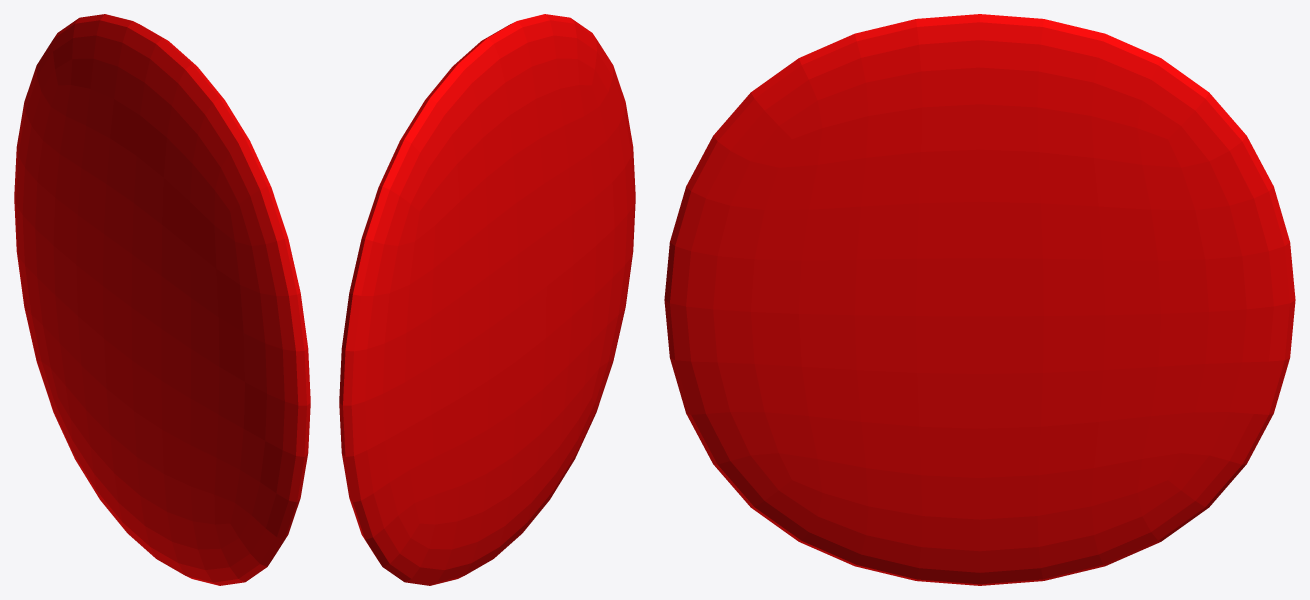
The model's file is powerCoinRed.fbx.
3 views of the same model, side by side, from view 1: azimuth 30°, elevation 25°; view 2: azimuth 150°, elevation 25°; view 3: azimuth 270°, elevation 25° (orthographic). The views are drawn at different scales.
Visible parts, largest first — view 1: Cube; view 2: Cube; view 3: Cube.
Boxes of the visible parts, x1,y1,x2,y2 form: Cube: (14,14,310,585); Cube: (339,14,635,585); Cube: (664,14,1295,585).
Bounding box in the file's own units: 2.06 × 16.79 × 16.79.
1 material, 1 textured.
